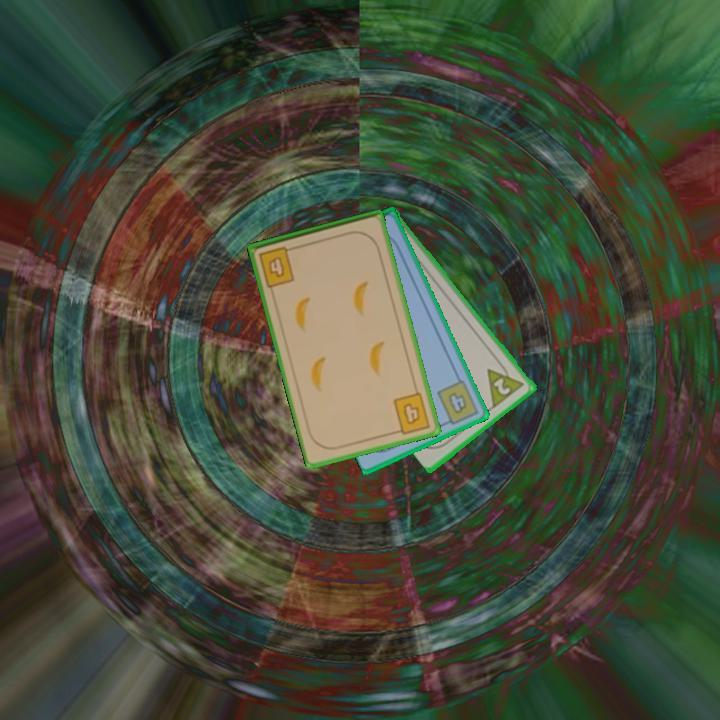2p: (483, 357, 528, 410)
4b: (434, 376, 482, 428), (390, 389, 433, 437), (256, 243, 299, 290)
